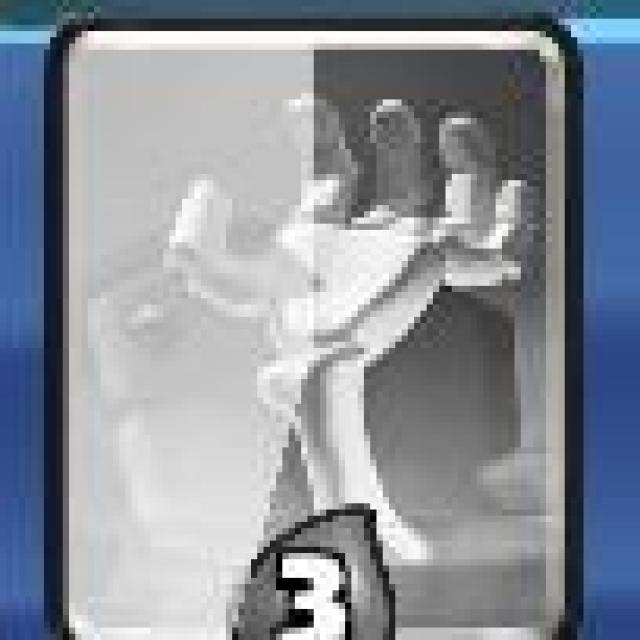Tombstone: (57, 12, 588, 638)
